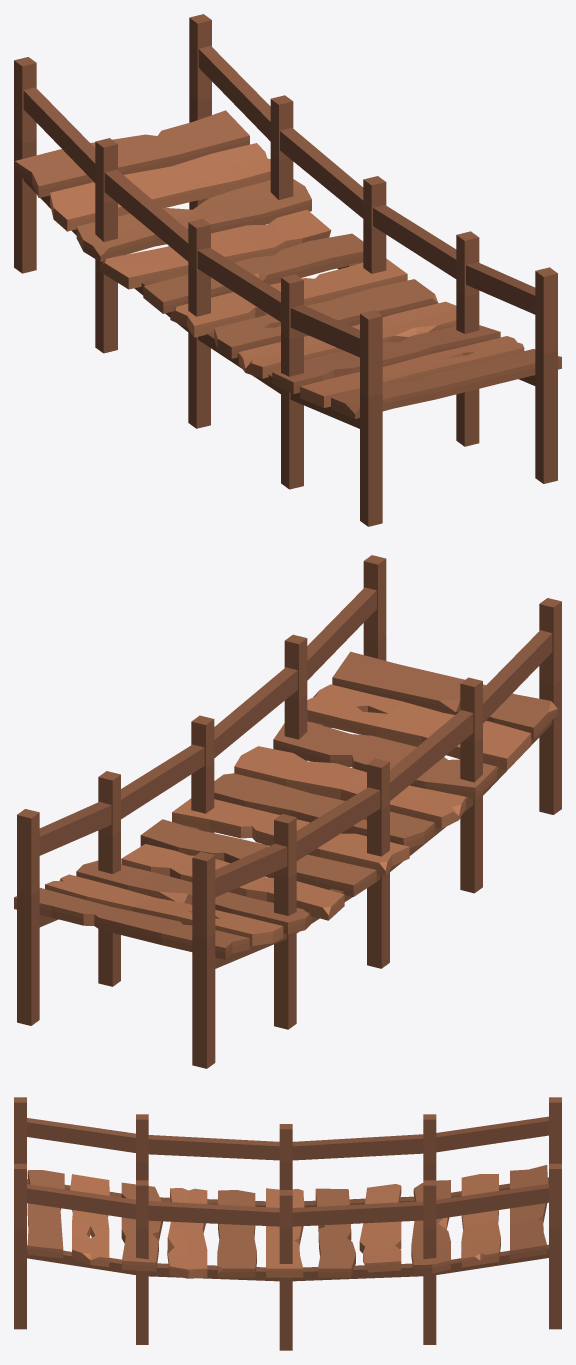
The model's file is wooden_bridge.glb.
The picture shows the model from 3 angles, top to bottom: view 1: azimuth 30°, elevation 25°; view 2: azimuth 150°, elevation 25°; view 3: azimuth 270°, elevation 25°; orthographic projection. The views are drawn at different scales.
Visible parts, largest first — view 1: wooden_bridge; view 2: wooden_bridge; view 3: wooden_bridge.
Part boxes in pixels (left/top/right/bottom): wooden_bridge: left=14, top=14, right=561, bottom=526; wooden_bridge: left=14, top=555, right=561, bottom=1068; wooden_bridge: left=14, top=1097, right=561, bottom=1350.
Size of the model in its own units: 1.8 by 1.8 by 4.92.
Materials: 1 (1 with a texture image).
